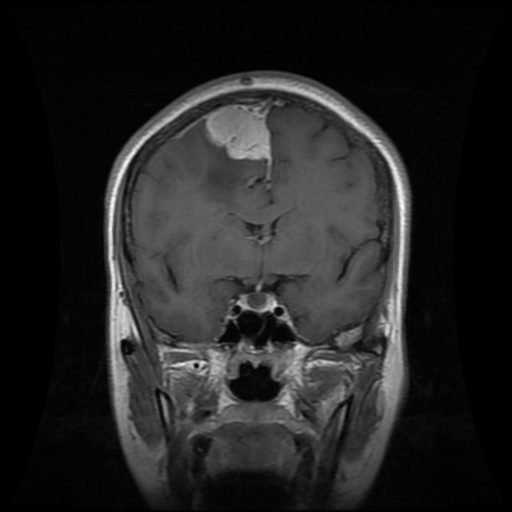meningioma: (204, 103, 271, 159)
